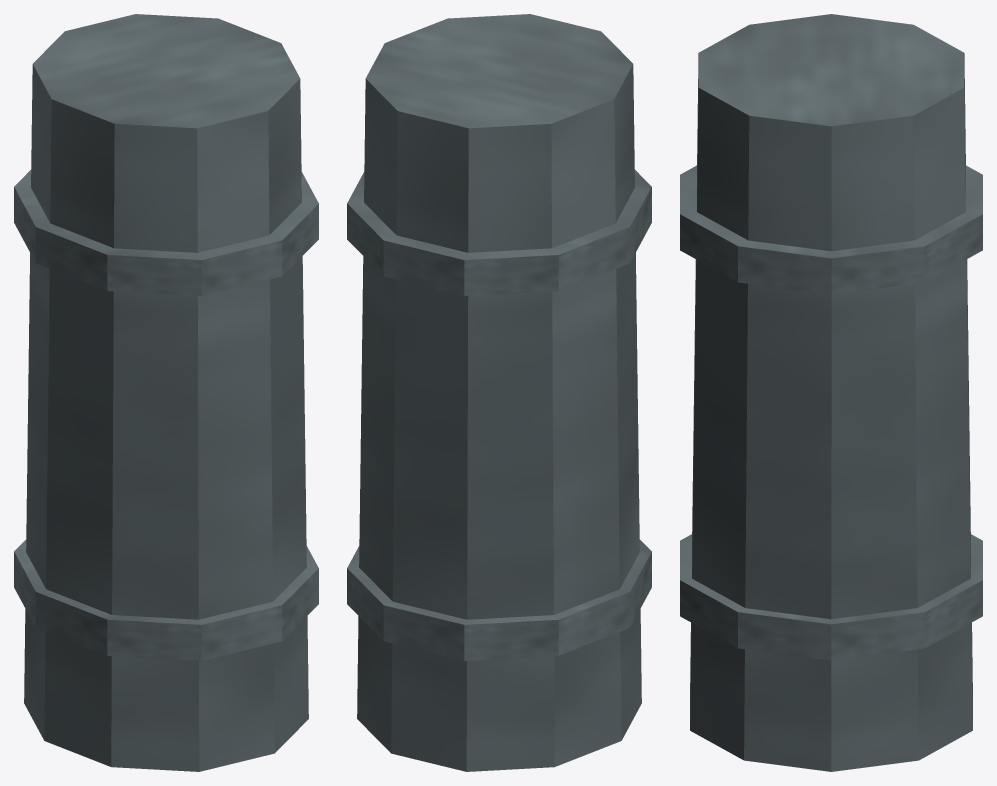
File: pipe_segment_M.fbx
The picture shows the model from 3 angles, left to right: view 1: azimuth 30°, elevation 25°; view 2: azimuth 150°, elevation 25°; view 3: azimuth 270°, elevation 25°; orthographic projection.
Visible parts, largest first — view 1: pipe_segment_M; view 2: pipe_segment_M; view 3: pipe_segment_M.
Part boxes in pixels (box(x1,y1,x2,y2)): pipe_segment_M: box(14, 14, 318, 771); pipe_segment_M: box(347, 14, 651, 771); pipe_segment_M: box(680, 14, 982, 771).
Size of the model in its own units: 53 by 124 by 53.
1 material, 1 textured.
